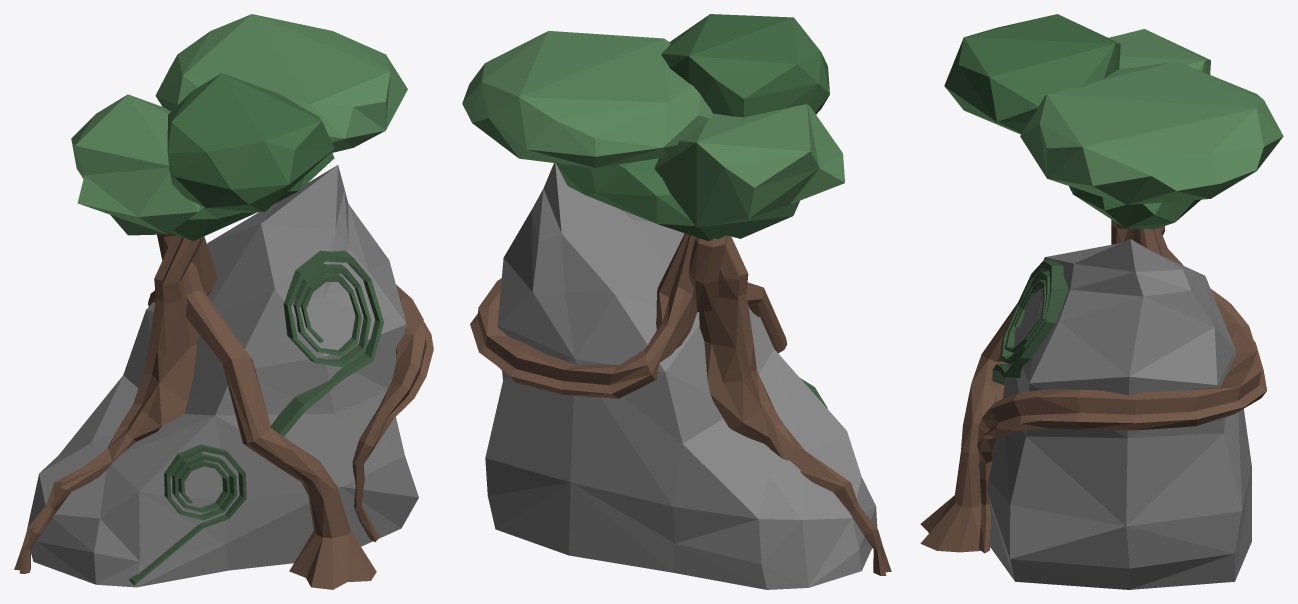
The model's file is _tree_1.fbx.
The picture shows the model from 3 angles, left to right: view 1: azimuth 30°, elevation 25°; view 2: azimuth 150°, elevation 25°; view 3: azimuth 270°, elevation 25°; orthographic projection. The views are drawn at different scales.
Visible parts, largest first — view 1: tree_1; view 2: tree_1; view 3: tree_1.
Boxes of the visible parts, x1,y1,x2,y2 form: tree_1: (14,14,433,589); tree_1: (462,14,891,589); tree_1: (920,14,1283,589).
Size of the model in its own units: 146 by 164 by 114.
